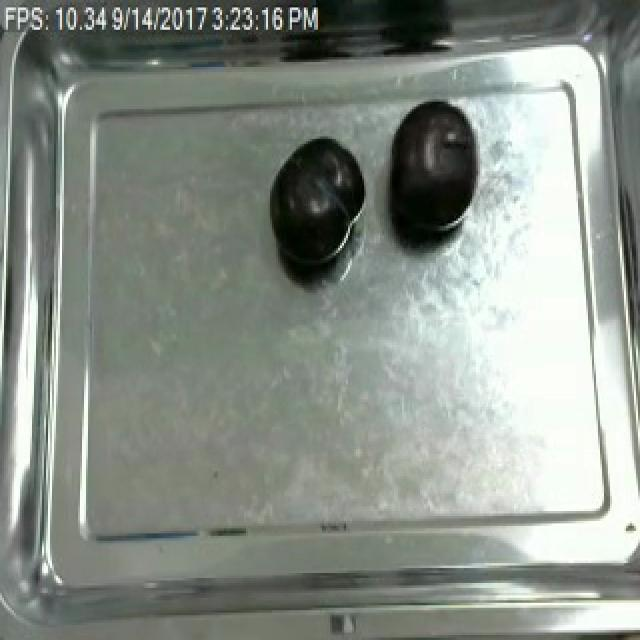Fruit: (264, 134, 372, 275), (382, 94, 482, 246)
